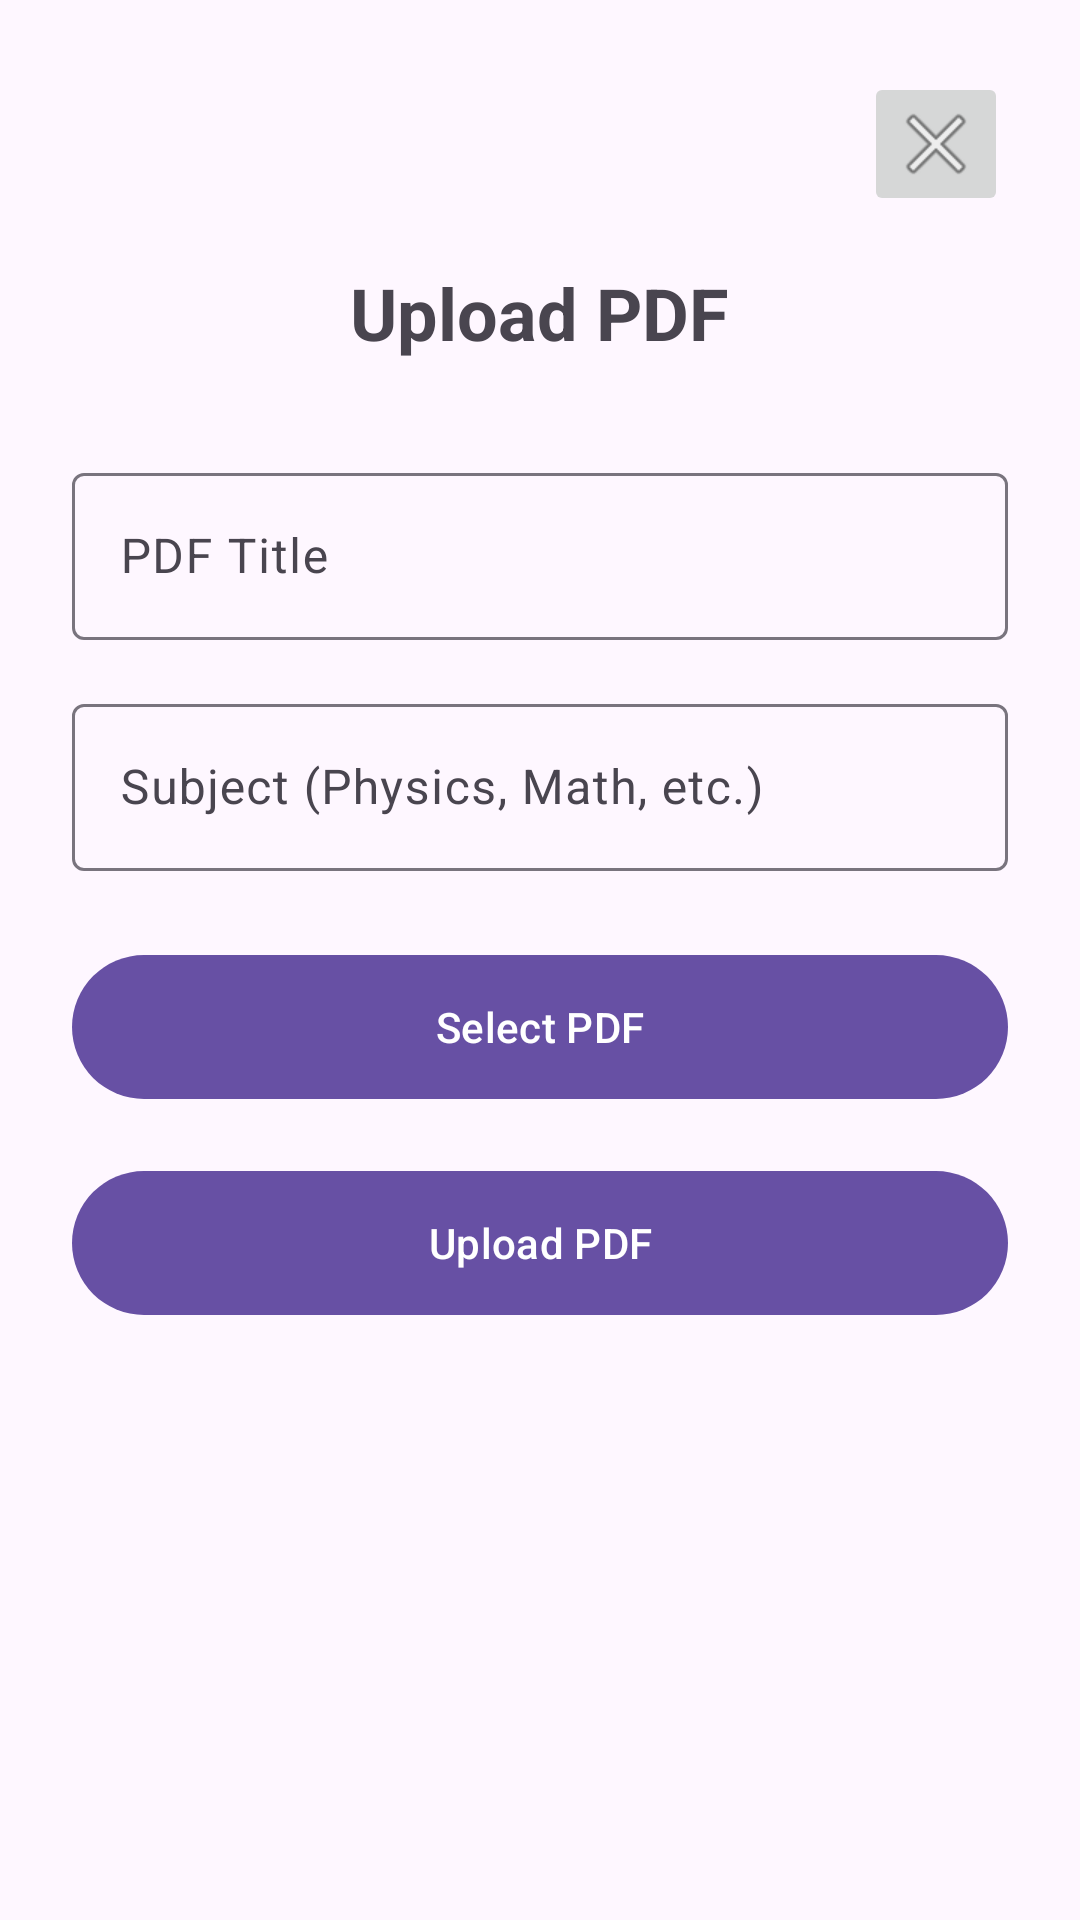

Screen size 1080x1920. Icon name, then its box in pixels as (x1, y1, x2, y2):
close clear cancel: (876, 90, 996, 198)
